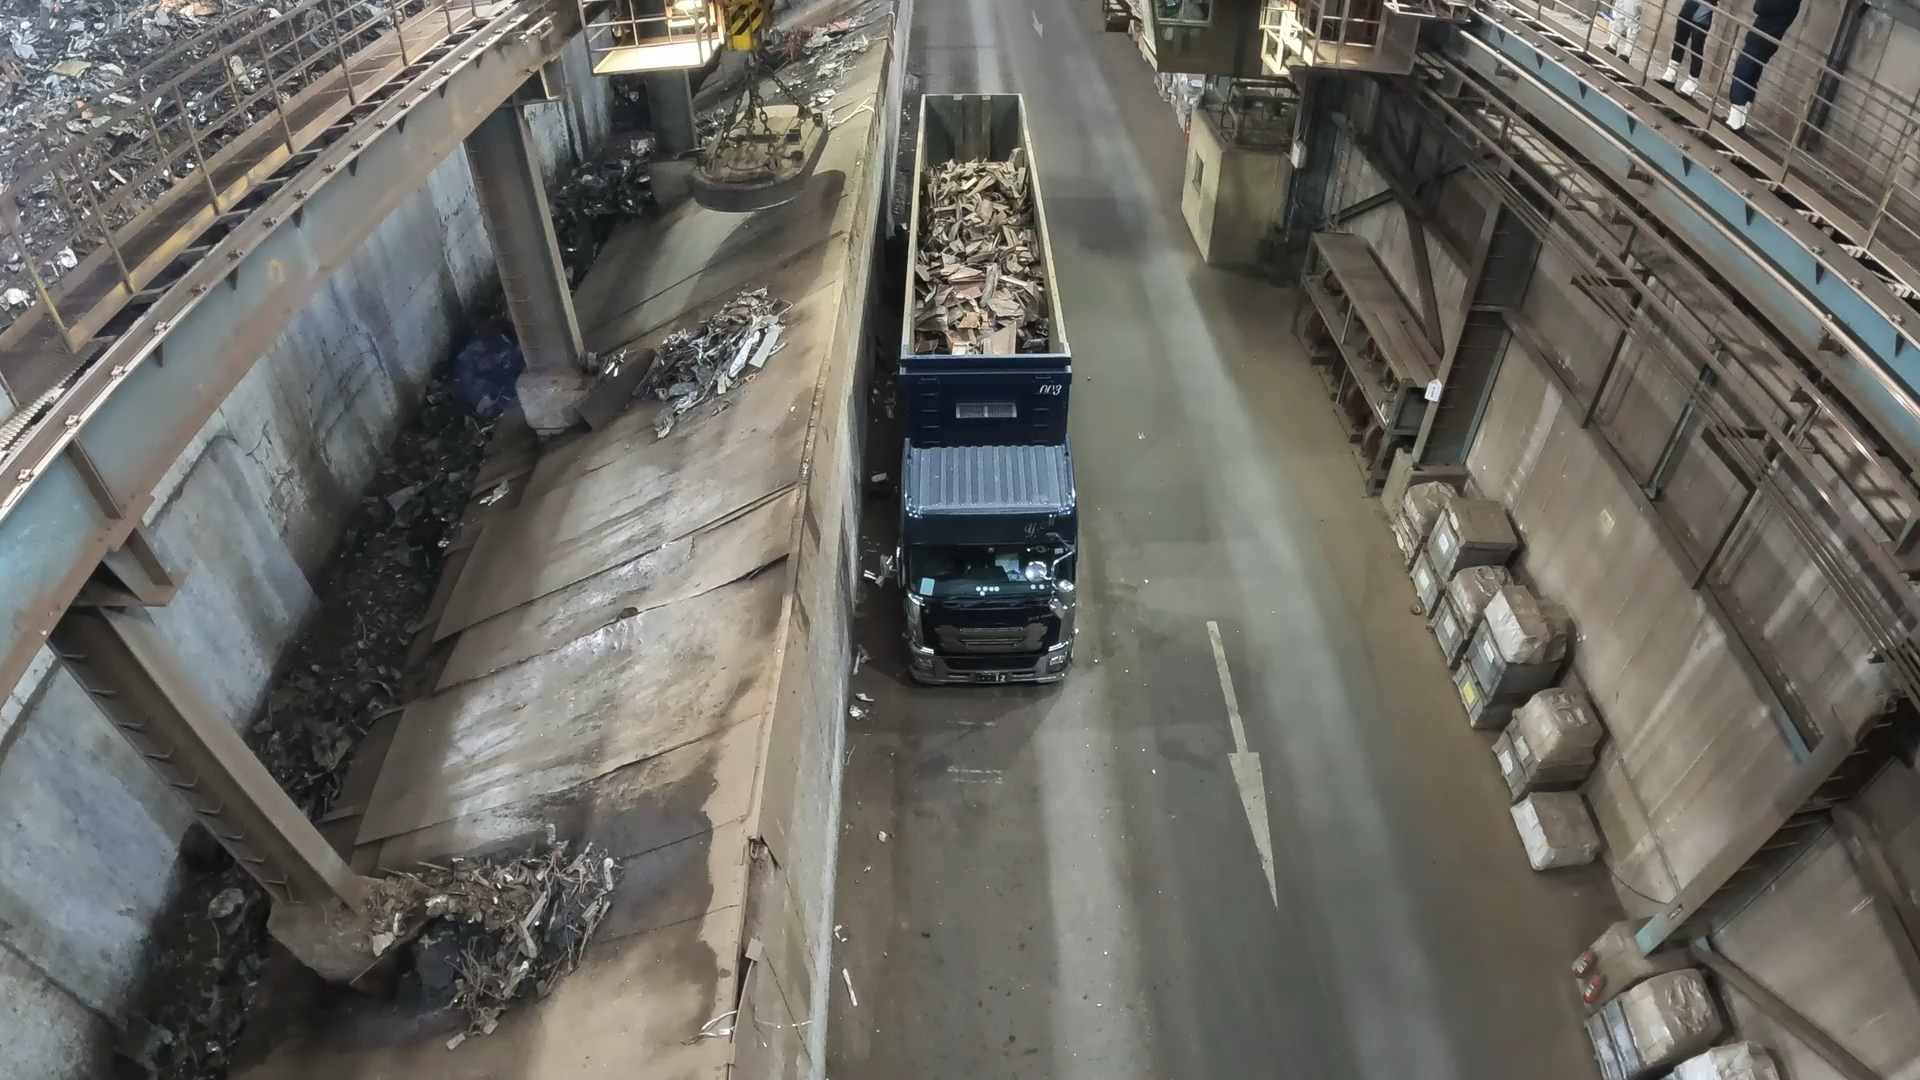truck: (905, 94, 1068, 356)
